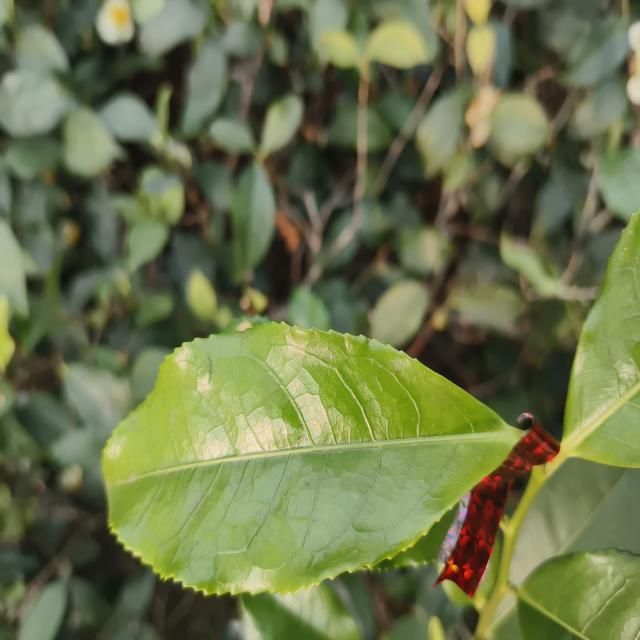Leaf: (103, 323, 521, 594), (563, 210, 640, 467), (517, 549, 640, 640), (241, 584, 360, 640), (61, 363, 132, 438), (232, 162, 276, 276), (0, 69, 74, 136), (563, 16, 628, 86), (181, 39, 227, 137), (369, 279, 429, 347), (490, 93, 548, 159), (63, 107, 116, 177), (365, 20, 428, 69), (599, 148, 640, 221), (19, 580, 68, 640), (127, 219, 169, 271)
